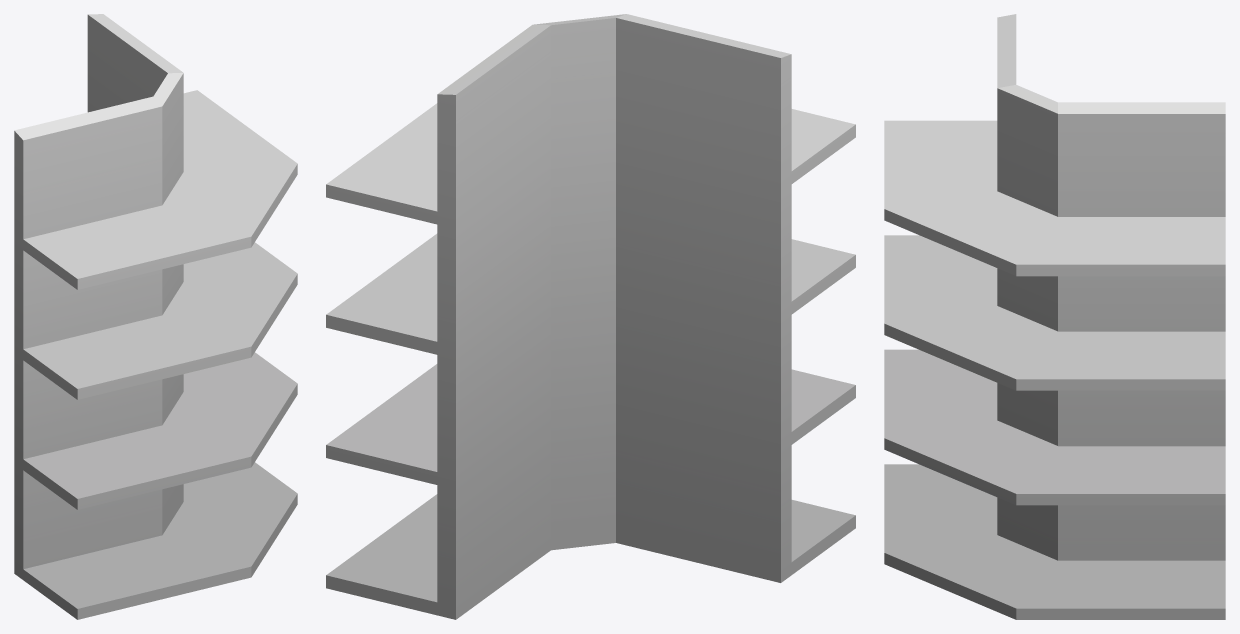
The model's file is case_corner_half.fbx.
3 renders of one model, left to right at view 1: azimuth 30°, elevation 25°; view 2: azimuth 150°, elevation 25°; view 3: azimuth 270°, elevation 25°, orthographic. The views are drawn at different scales.
Parts seen in each view (by area): view 1: case_corner_half; view 2: case_corner_half; view 3: case_corner_half.
Part boxes in pixels (<box>): case_corner_half: <box>14,14,297,619</box>; case_corner_half: <box>326,14,855,619</box>; case_corner_half: <box>884,14,1225,619</box>.
Size of the model in its own units: 815 by 1218 by 815.
